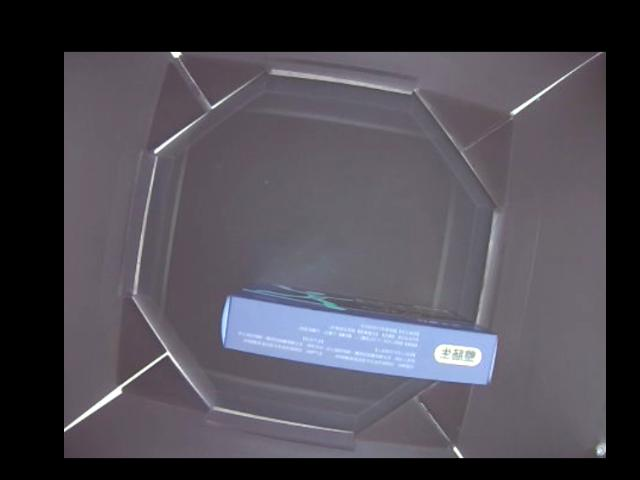Medicine: (219, 282, 495, 386)
